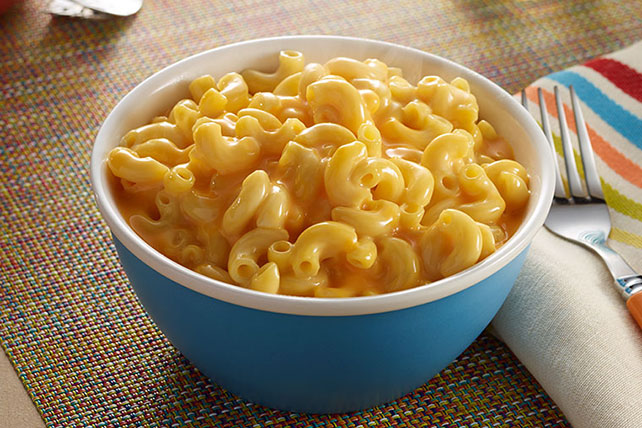macncheese: (123, 52, 529, 299)
